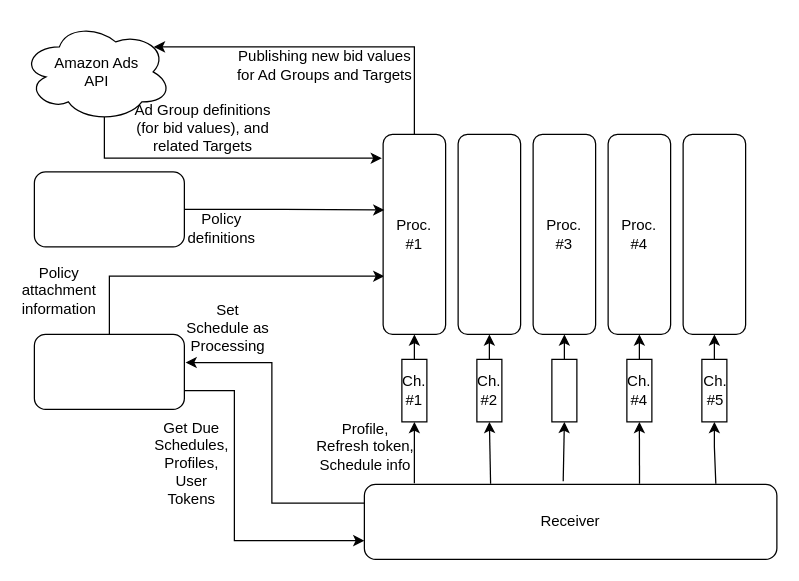
Some shapes in this 799 by 581 pixel diagram are drawn without their labels. Each missing label, with the centre of its shape:
Ch. #3: [564,390]
Policy Service: [108,209]
Proc. #2: [489,233]
Proc. #5: [714,233]
User Service: [108,371]
